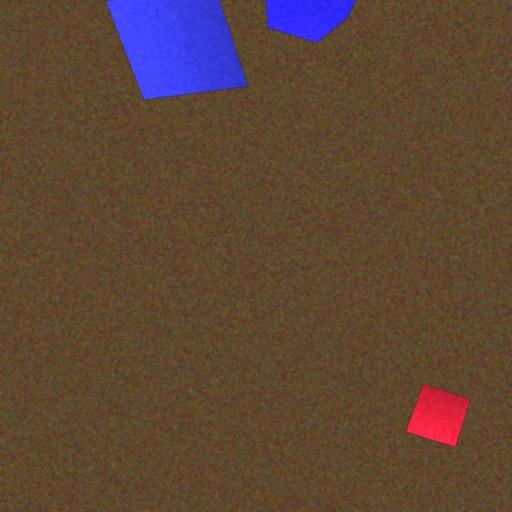BLUE_SQUARE: (105, 0, 249, 101)
RED_SQUARE: (406, 384, 471, 448)
